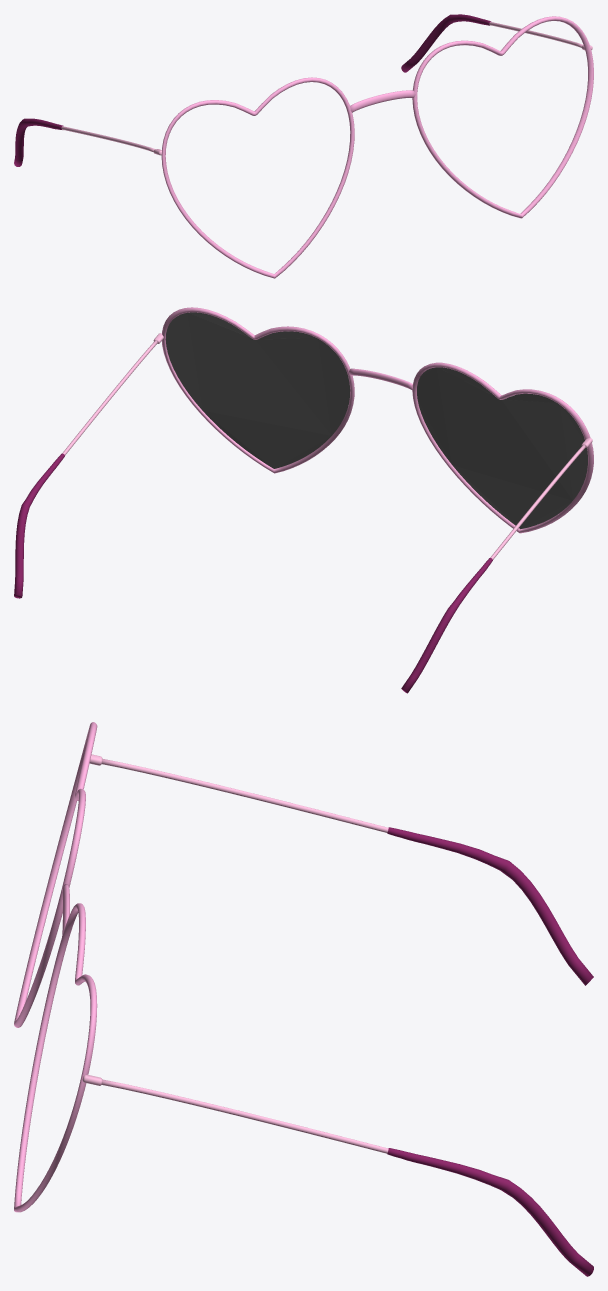
The model's file is coeur.glb.
3 views of the same model, one above another, from view 1: azimuth 30°, elevation 25°; view 2: azimuth 150°, elevation 25°; view 3: azimuth 270°, elevation 25° (orthographic). The views are drawn at different scales.
Visible parts, largest first — view 1: Cylinder, BezierCurve, Cylinder.001; view 2: Circle.002, Cylinder, BezierCurve, Cylinder.001; view 3: Cylinder, BezierCurve, Cylinder.001.
Boxes of the visible parts, left/top/right/bottom form: Cylinder: left=161, top=16, right=593, bottom=278; BezierCurve: left=14, top=14, right=491, bottom=166; Cylinder.001: left=61, top=22, right=583, bottom=152; Circle.002: left=165, top=312, right=587, bottom=529; Cylinder: left=162, top=307, right=593, bottom=533; BezierCurve: left=14, top=453, right=492, bottom=693; Cylinder.001: left=62, top=340, right=585, bottom=559; Cylinder: left=14, top=722, right=97, bottom=1212; BezierCurve: left=387, top=827, right=593, bottom=1276; Cylinder.001: left=101, top=758, right=388, bottom=1153.
Size of the model in its own units: 4.73 by 1.86 by 3.56.
